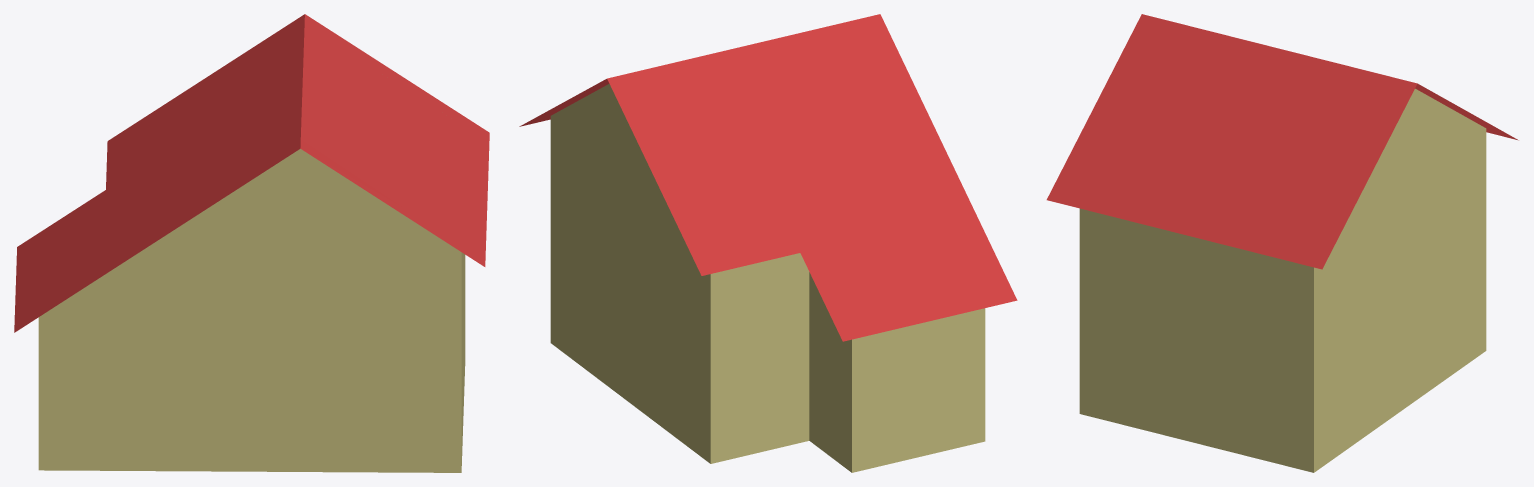
3 renders of one model, left to right at view 1: azimuth 30°, elevation 25°; view 2: azimuth 150°, elevation 25°; view 3: azimuth 270°, elevation 25°, orthographic. The views are drawn at different scales.
Size of the model in its own units: 17.75 by 14.67 by 11.5.
